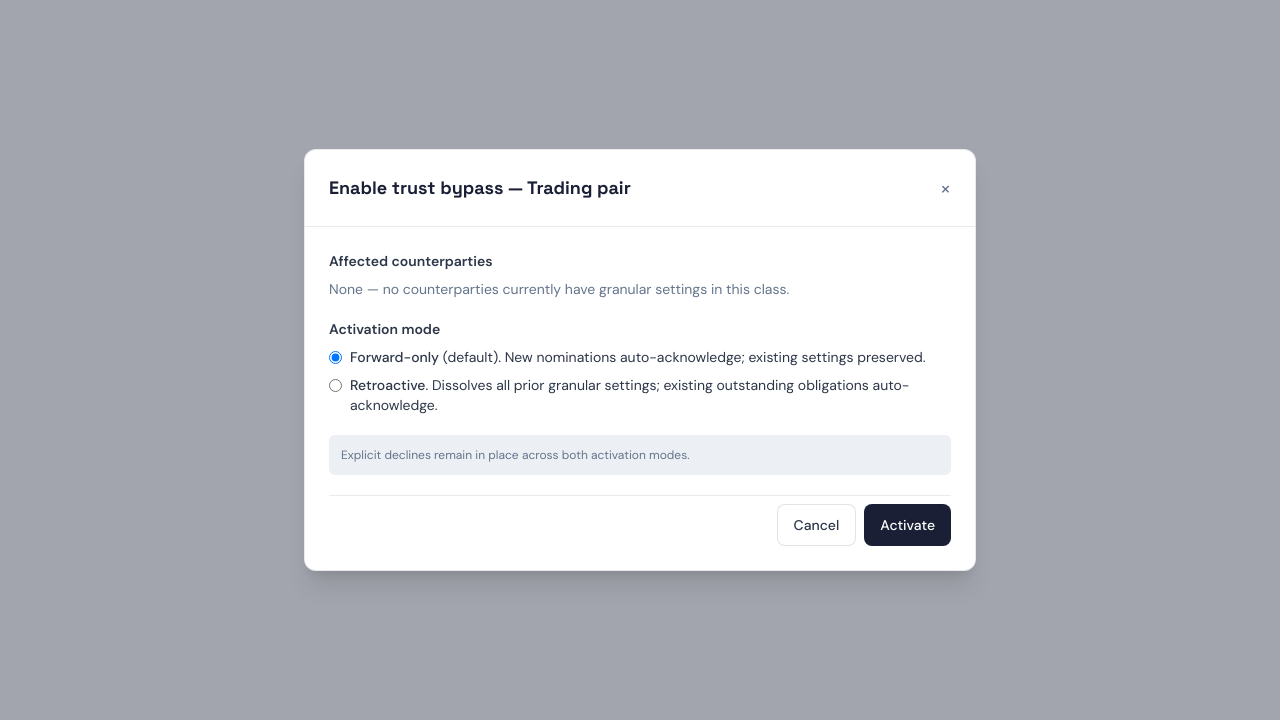
Test case: ActivationModal › surfaces an error message when activation fails
Click the button "Activate" at (908, 525), box x1=864 y1=504 x2=951 y2=546
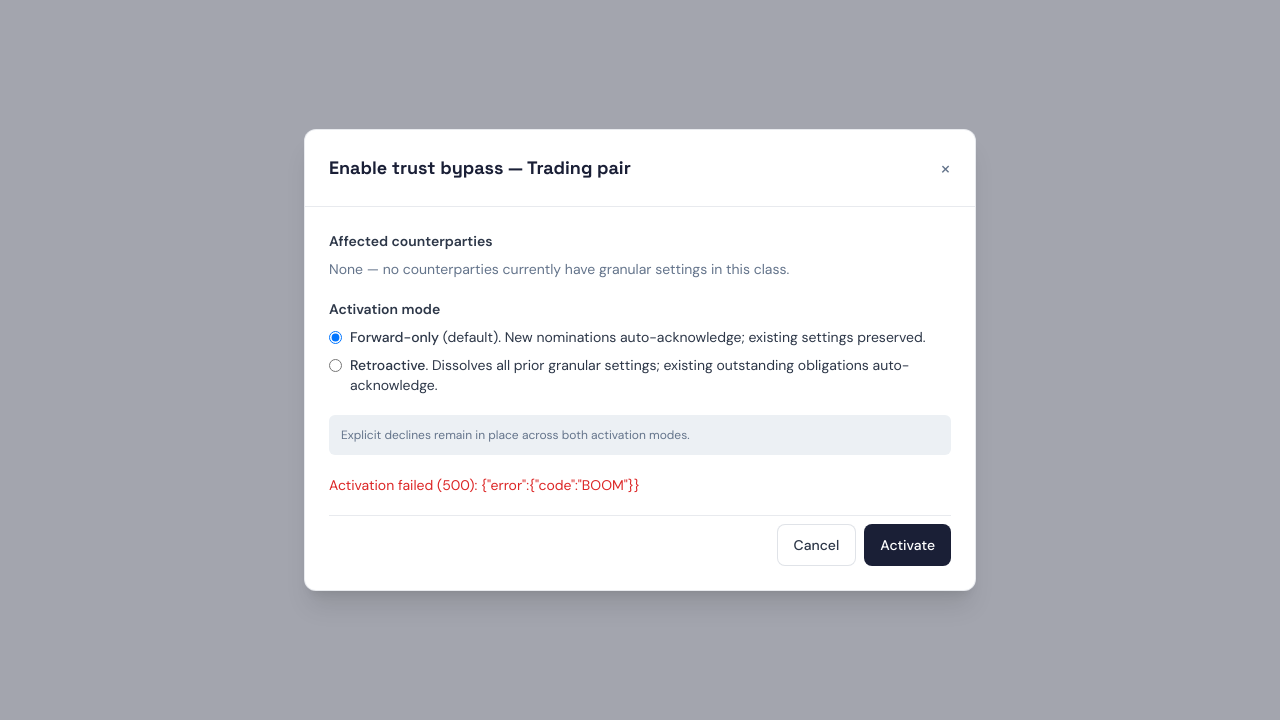
Result: the message shows "Activation failed" at x1=329 y1=476 x2=640 y2=494
